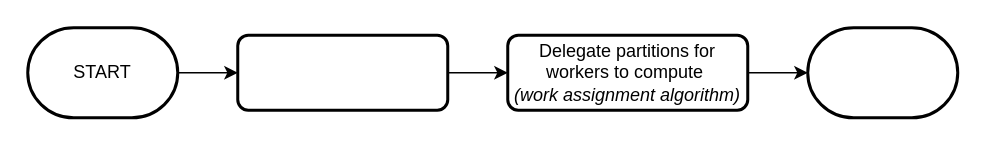
Image size: 984x144. Some labels were removed from this diagram. Each missing label, with the centre of its shape:
"STOP" goes at [882,72].
"Use DataSource to generate partitions and optimal assignments" goes at [342,72].
